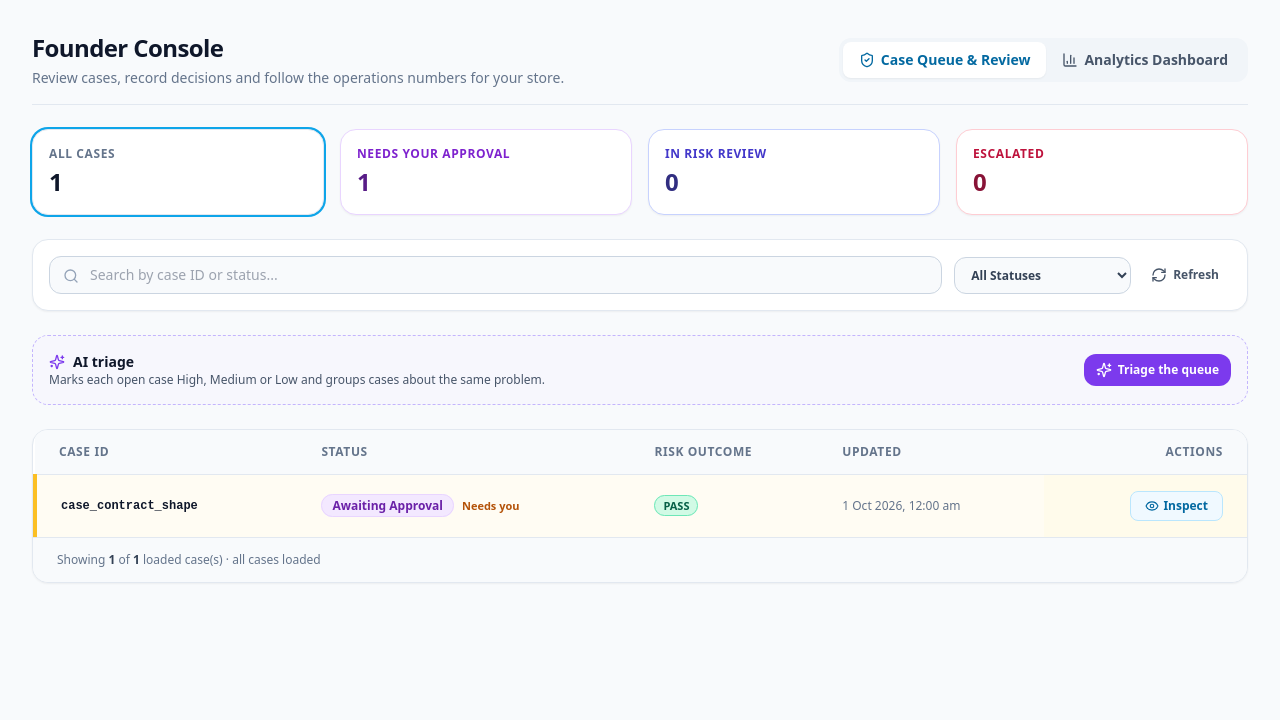
it: FounderConsole failure and live-mode paths › live mode: sends an APPROVE bound to the proposal and preview from the server case view
Click the button "Inspect" at x=1177, y=506, box [1130,491,1223,521]
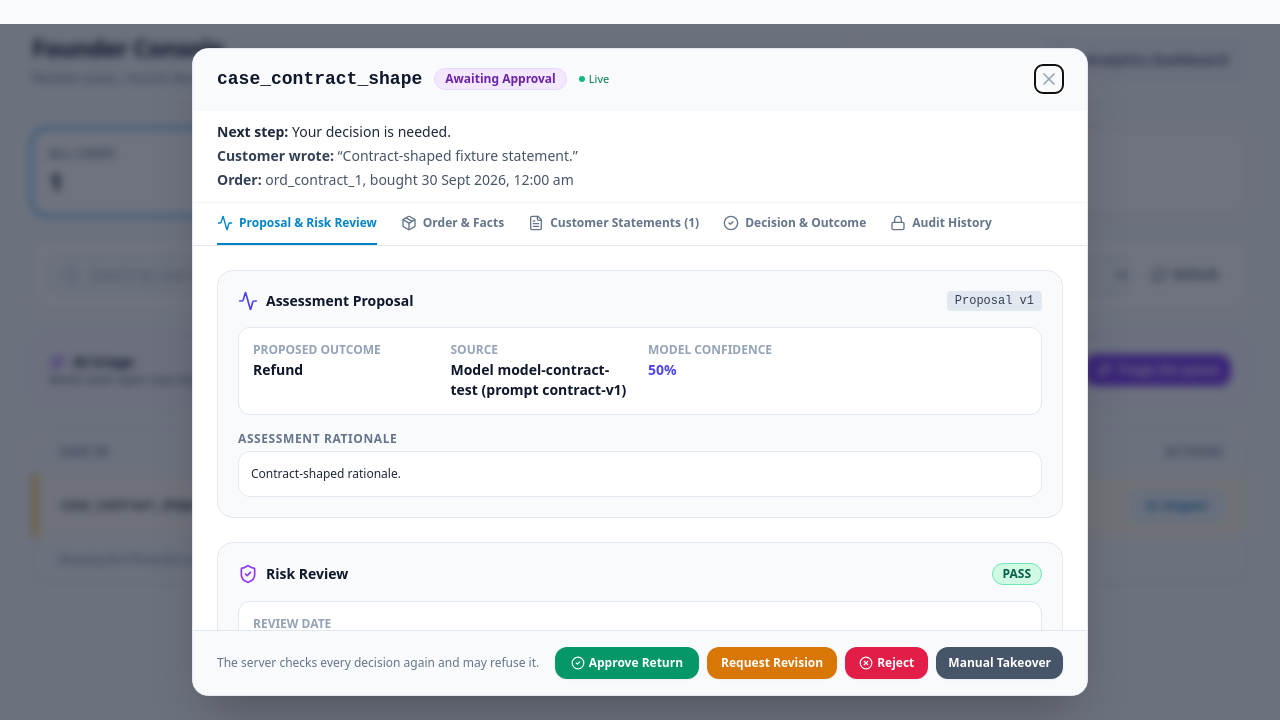
Check: the text "The server checks every decision again and may refuse it." is shown, box [217,655,539,671]
Click the button "Approve Return" at x=627, y=663, box [555,647,699,679]
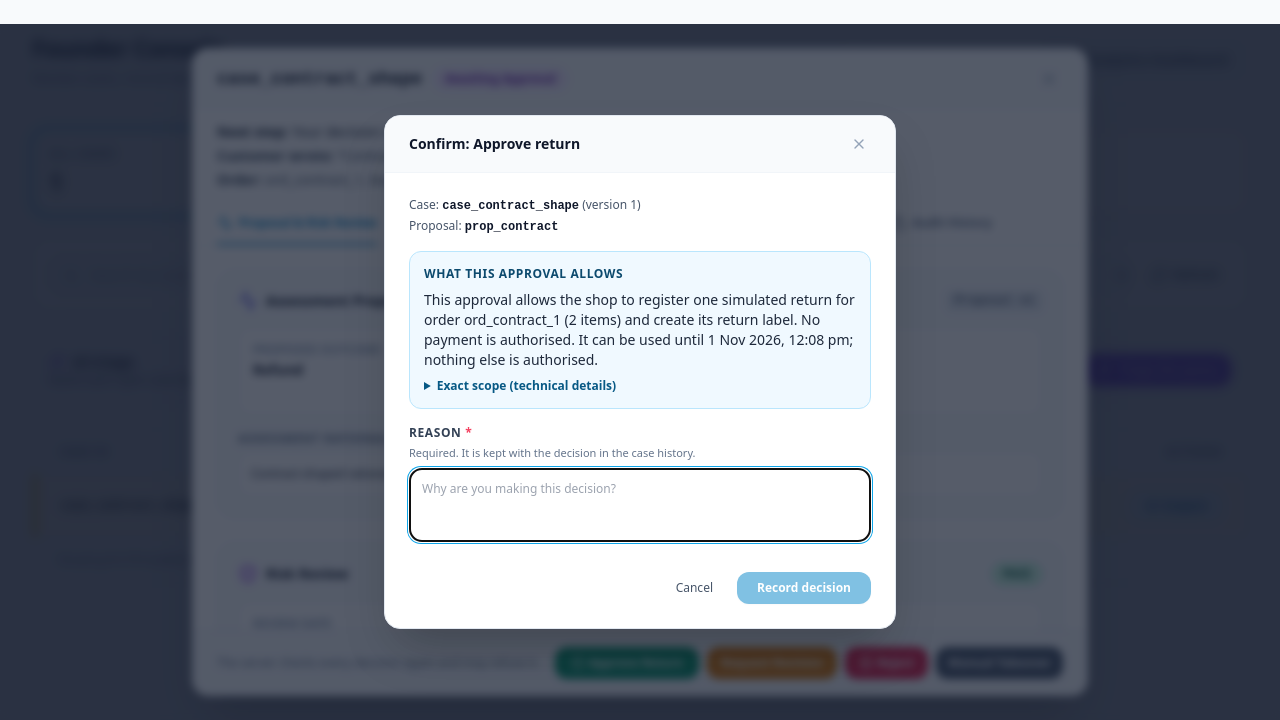
Type "  Exact scope reviewed.  " into the text box with placeholder "Why are you making this decision?" at x=640, y=505, box [409,468,871,542]
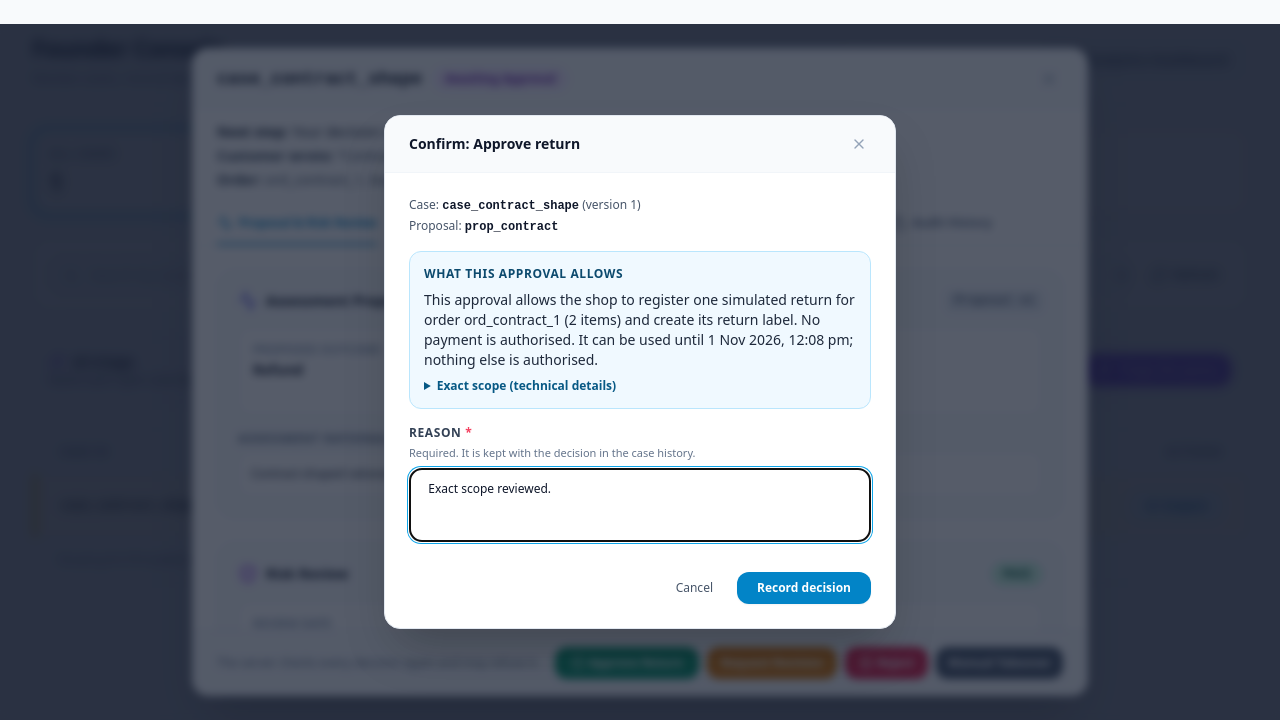
Click the button "Record decision" at x=804, y=588, box [737,572,871,604]
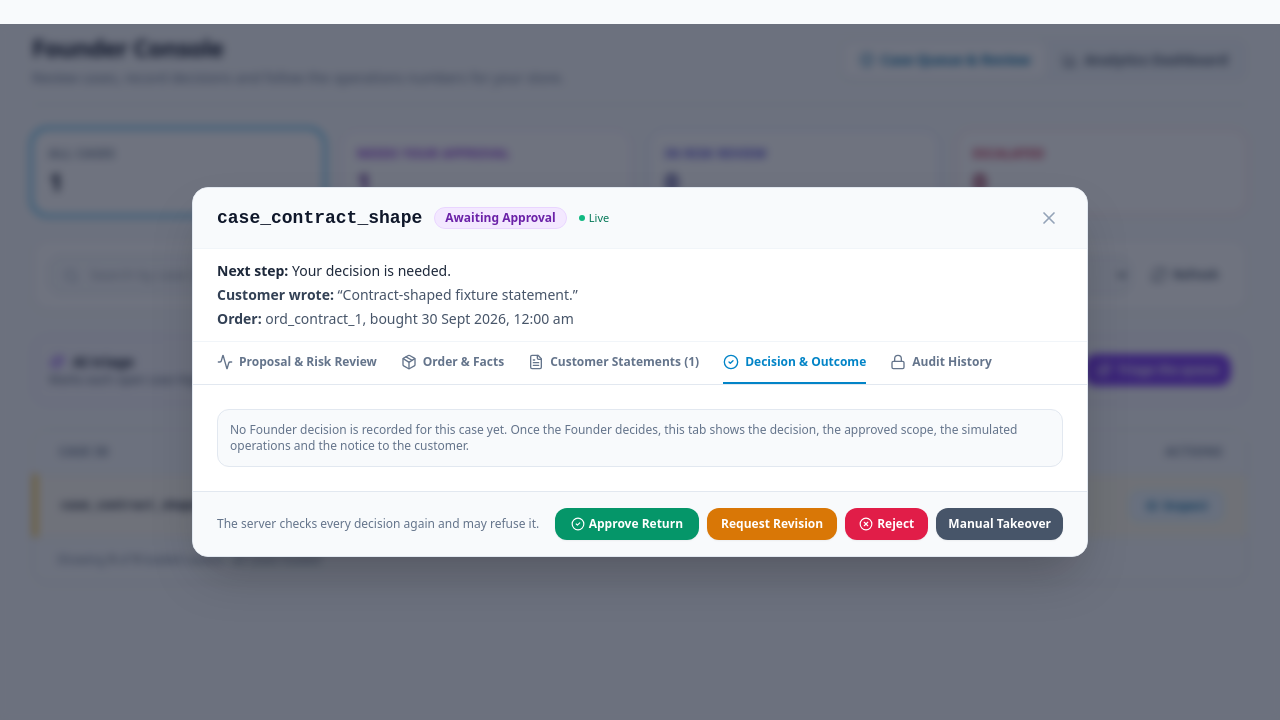
Check: the text "case_contract_shape" in the row of "PASS" is shown, box [61,499,198,513]
Check: the heading "Confirm: Approve return" is gone
